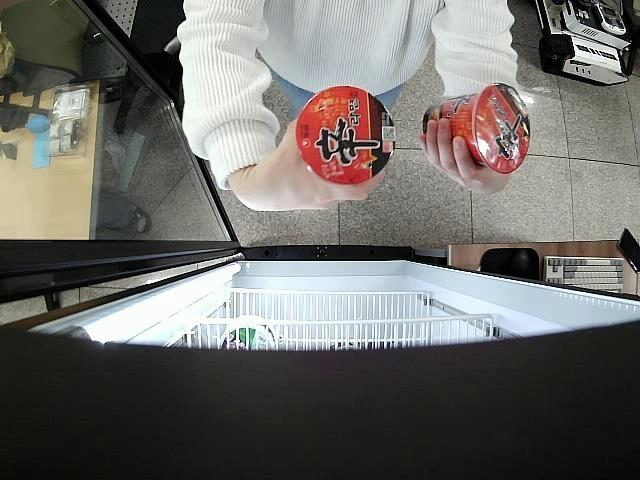02_shinRamen_S: (422, 85, 530, 174), (298, 86, 395, 185)
